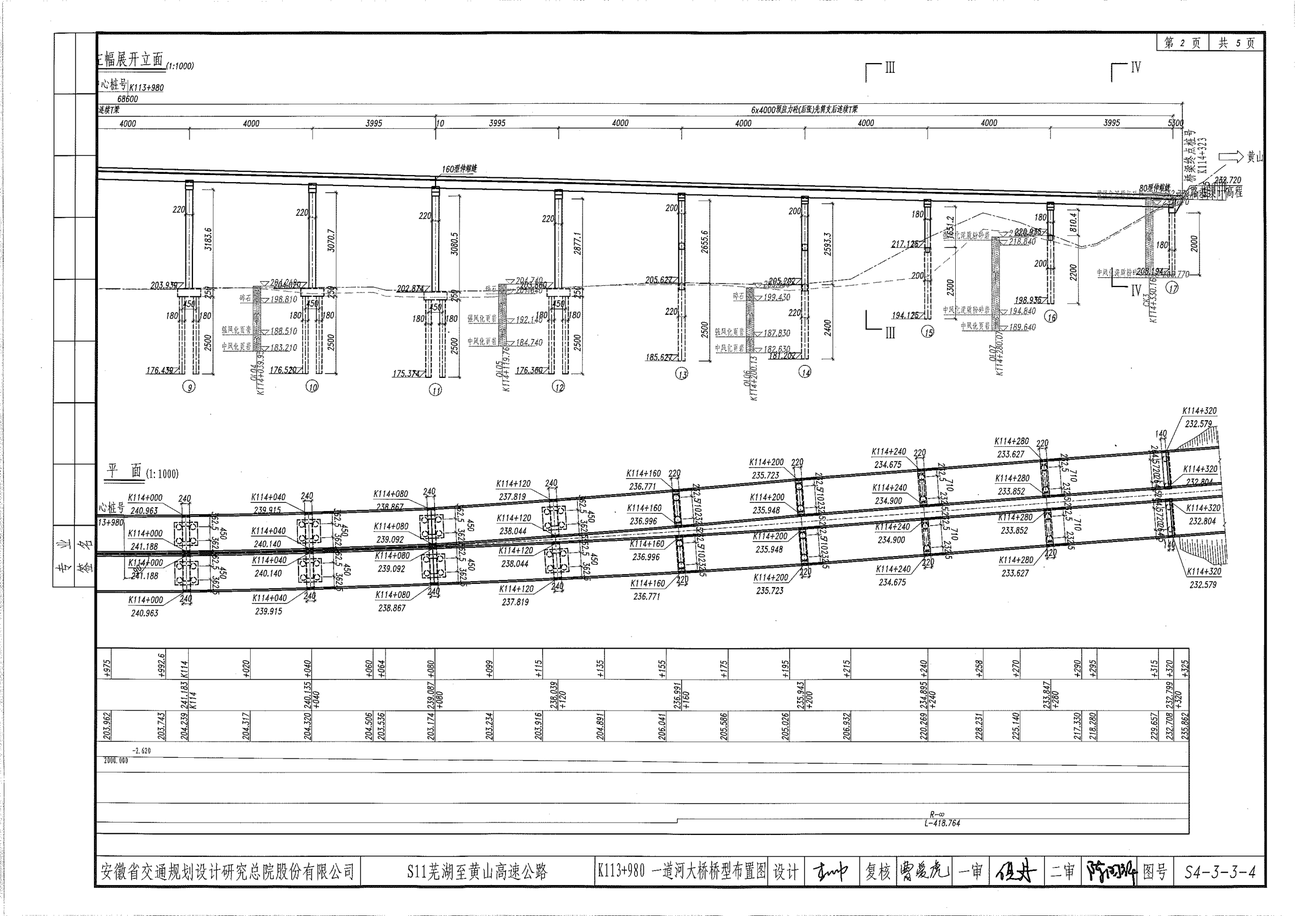A: (79, 41, 1256, 400)
